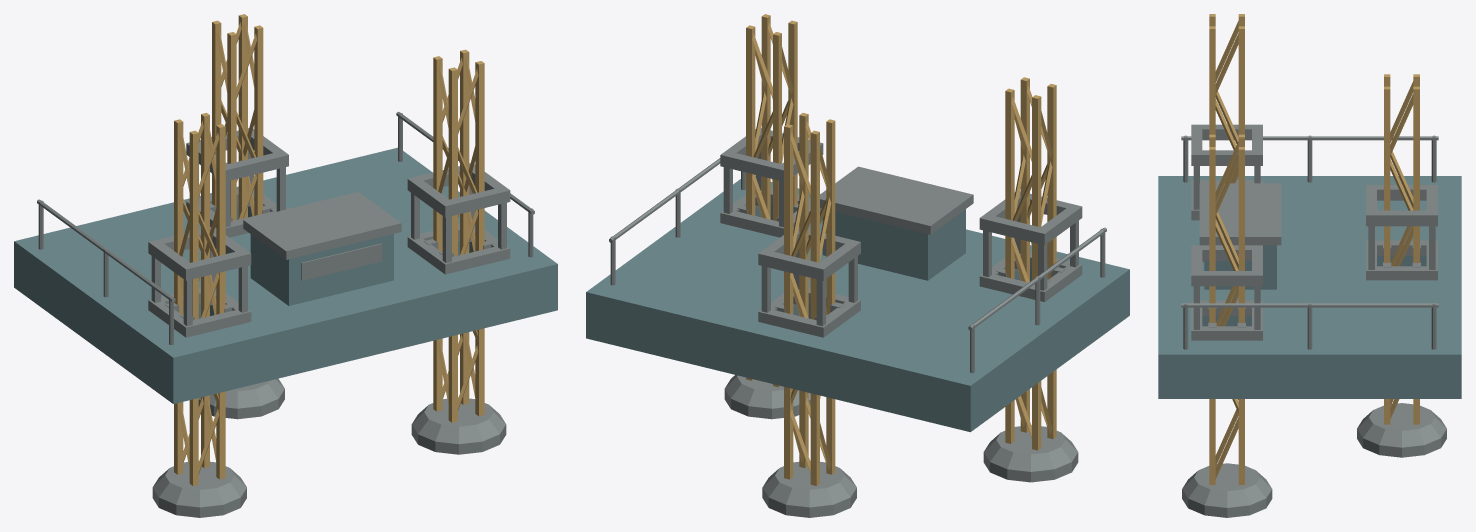
3 renders of one model, left to right at view 1: azimuth 30°, elevation 25°; view 2: azimuth 150°, elevation 25°; view 3: azimuth 270°, elevation 25°, orthographic. The views are drawn at different scales.
Parts seen in each view (by area): view 1: WholeHullWithThreeThroughLegWells, WholeStationRoof, WholeLowDeckStation, WholeGroundedLegFoot_1, WholeGroundedLegFoot_0, WholeLongLegChord_0_1_-1, WholeLongLegChord_1_1_-1, WholeLongLegChord_0_-1_-1, WholeOpenGuideCollar_1_1, WholeOpenGuideCollar_0_1, WholeLongLegChord_1_-1_-1, WholeLongLegChord_1_-1_1 (+14 smaller); view 2: WholeHullWithThreeThroughLegWells, WholeStationRoof, WholeLowDeckStation, WholeGroundedLegFoot_0, WholeGroundedLegFoot_2, WholeLongLegChord_2_-1_1, WholeLongLegChord_2_1_1, WholeOpenGuideCollar_0_1, WholeOpenGuideCollar_2_1, WholeLongLegChord_2_-1_-1, WholeGroundedLegFoot_1, WholeLongLegChord_0_-1_1 (+14 smaller); view 3: WholeHullWithThreeThroughLegWells, WholeStationRoof, WholeGroundedLegFoot_1, WholeGroundedLegFoot_2, WholeOpenGuideCollar_2_1, WholeOpenGuideCollar_1_1, WholeOpenGuideCollar_0_1, WholeLongLegChord_1_1_-1, WholeLongLegChord_1_1_1, WholeOpenGuideCollar_2_0, WholeOpenGuideCollar_1_0, WholeLongLegChord_2_1_1 (+6 smaller).
Part boxes in pixels (<box>): WholeHullWithThreeThroughLegWells: <box>14,147,557,403</box>; WholeStationRoof: <box>243,192,401,259</box>; WholeLowDeckStation: <box>250,234,393,305</box>; WholeGroundedLegFoot_1: <box>411,397,506,454</box>; WholeGroundedLegFoot_0: <box>152,461,246,517</box>; WholeLongLegChord_0_1_-1: <box>216,124,225,479</box>; WholeLongLegChord_1_1_-1: <box>475,61,484,416</box>; WholeLongLegChord_0_-1_-1: <box>189,130,198,485</box>; WholeOpenGuideCollar_1_1: <box>407,163,510,217</box>; WholeOpenGuideCollar_0_1: <box>148,227,251,280</box>; WholeLongLegChord_1_-1_-1: <box>448,67,457,422</box>; WholeLongLegChord_1_-1_1: <box>433,56,442,411</box>; WholeHullWithThreeThroughLegWells: <box>586,179,1129,432</box>; WholeStationRoof: <box>820,166,973,234</box>; WholeLowDeckStation: <box>822,209,965,280</box>; WholeGroundedLegFoot_0: <box>983,425,1078,482</box>; WholeGroundedLegFoot_2: <box>762,461,856,517</box>; WholeLongLegChord_2_-1_1: <box>810,130,819,485</box>; WholeLongLegChord_2_1_1: <box>784,124,793,479</box>; WholeOpenGuideCollar_0_1: <box>979,191,1082,245</box>; WholeOpenGuideCollar_2_1: <box>758,227,860,280</box>; WholeLongLegChord_2_-1_-1: <box>826,119,835,474</box>; WholeGroundedLegFoot_1: <box>724,375,810,419</box>; WholeLongLegChord_0_-1_1: <box>1032,95,1041,450</box>; WholeHullWithThreeThroughLegWells: <box>1158,176,1461,398</box>; WholeStationRoof: <box>1199,183,1281,245</box>; WholeGroundedLegFoot_1: <box>1182,463,1272,517</box>; WholeGroundedLegFoot_2: <box>1357,403,1446,457</box>; WholeOpenGuideCollar_2_1: <box>1366,185,1437,226</box>; WholeOpenGuideCollar_1_1: <box>1191,245,1262,286</box>; WholeOpenGuideCollar_0_1: <box>1191,124,1262,165</box>; WholeLongLegChord_1_1_-1: <box>1209,147,1215,484</box>; WholeLongLegChord_1_1_1: <box>1238,147,1244,484</box>; WholeOpenGuideCollar_2_0: <box>1366,240,1437,280</box>; WholeOpenGuideCollar_1_0: <box>1191,300,1262,340</box>; WholeLongLegChord_2_1_1: <box>1413,86,1419,424</box>.
Bounding box in the file's own units: 4.6 × 4.28 × 3.3.
